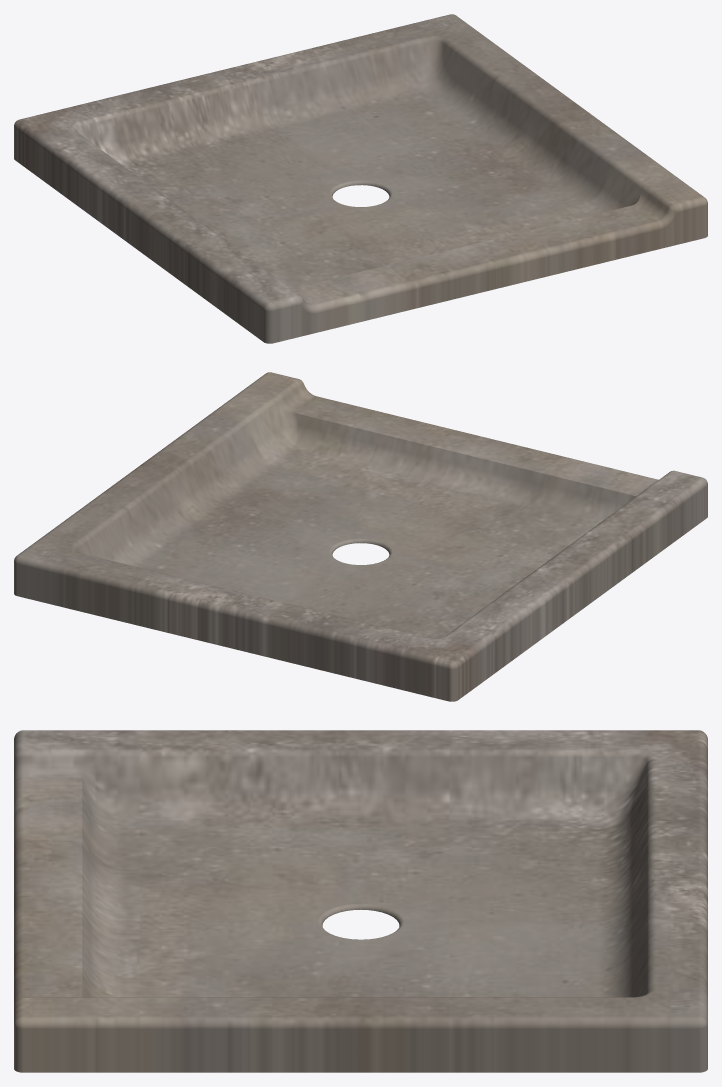
3 views of the same model, one above another, from view 1: azimuth 30°, elevation 25°; view 2: azimuth 150°, elevation 25°; view 3: azimuth 270°, elevation 25° (orthographic). The views are drawn at different scales.
Visible parts, largest first — view 1: Body1; view 2: Body1; view 3: Body1.
Boxes of the visible parts, x1,y1,x2,y2 form: Body1: [14, 14, 707, 343]; Body1: [14, 372, 707, 701]; Body1: [14, 730, 707, 1072].
Size of the model in its own units: 229 by 229 by 19.05.
